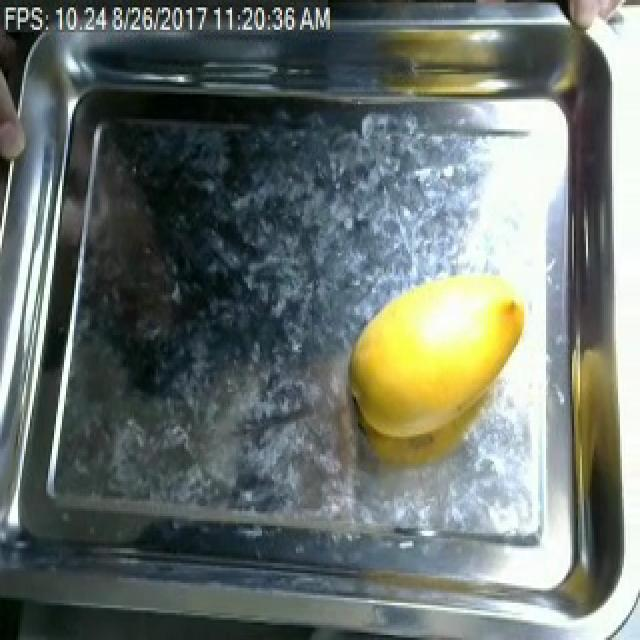fruit: (334, 265, 534, 459), (368, 3, 604, 114)
